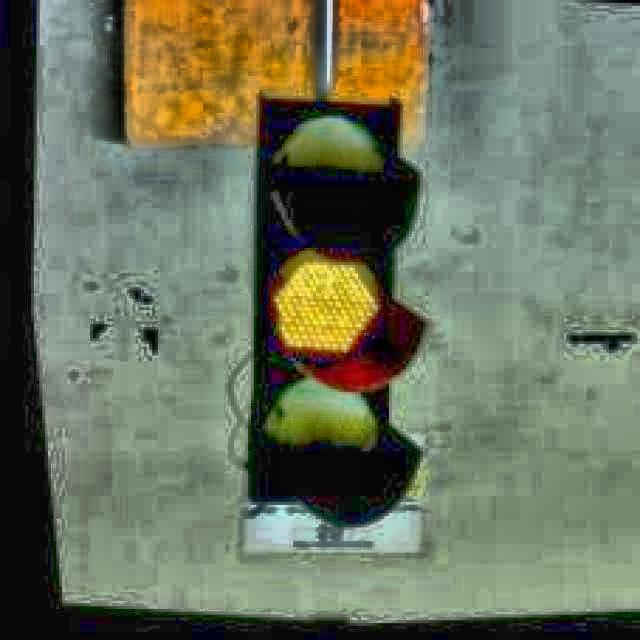yellow: (249, 95, 405, 508)
